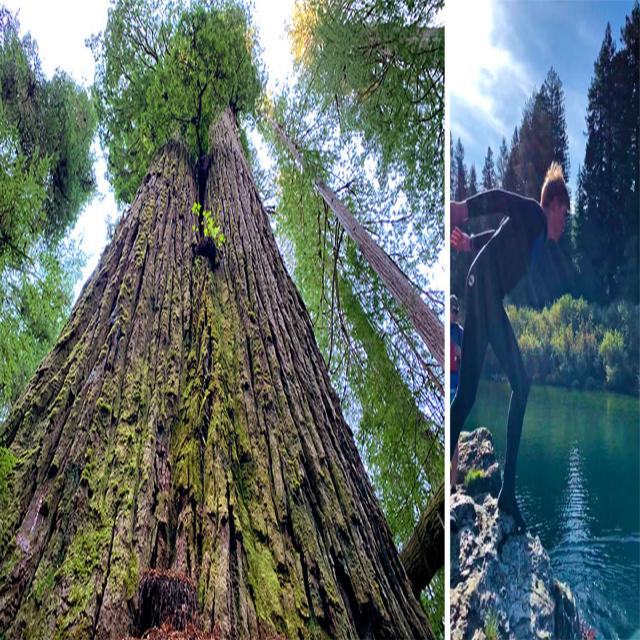Sequoia sempervirens: (173, 8, 423, 640)
